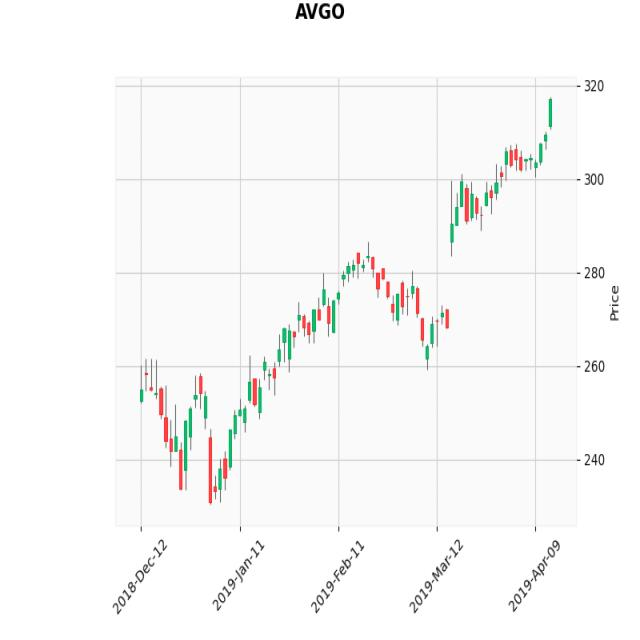Double-Bottom: (151, 364, 253, 512)
